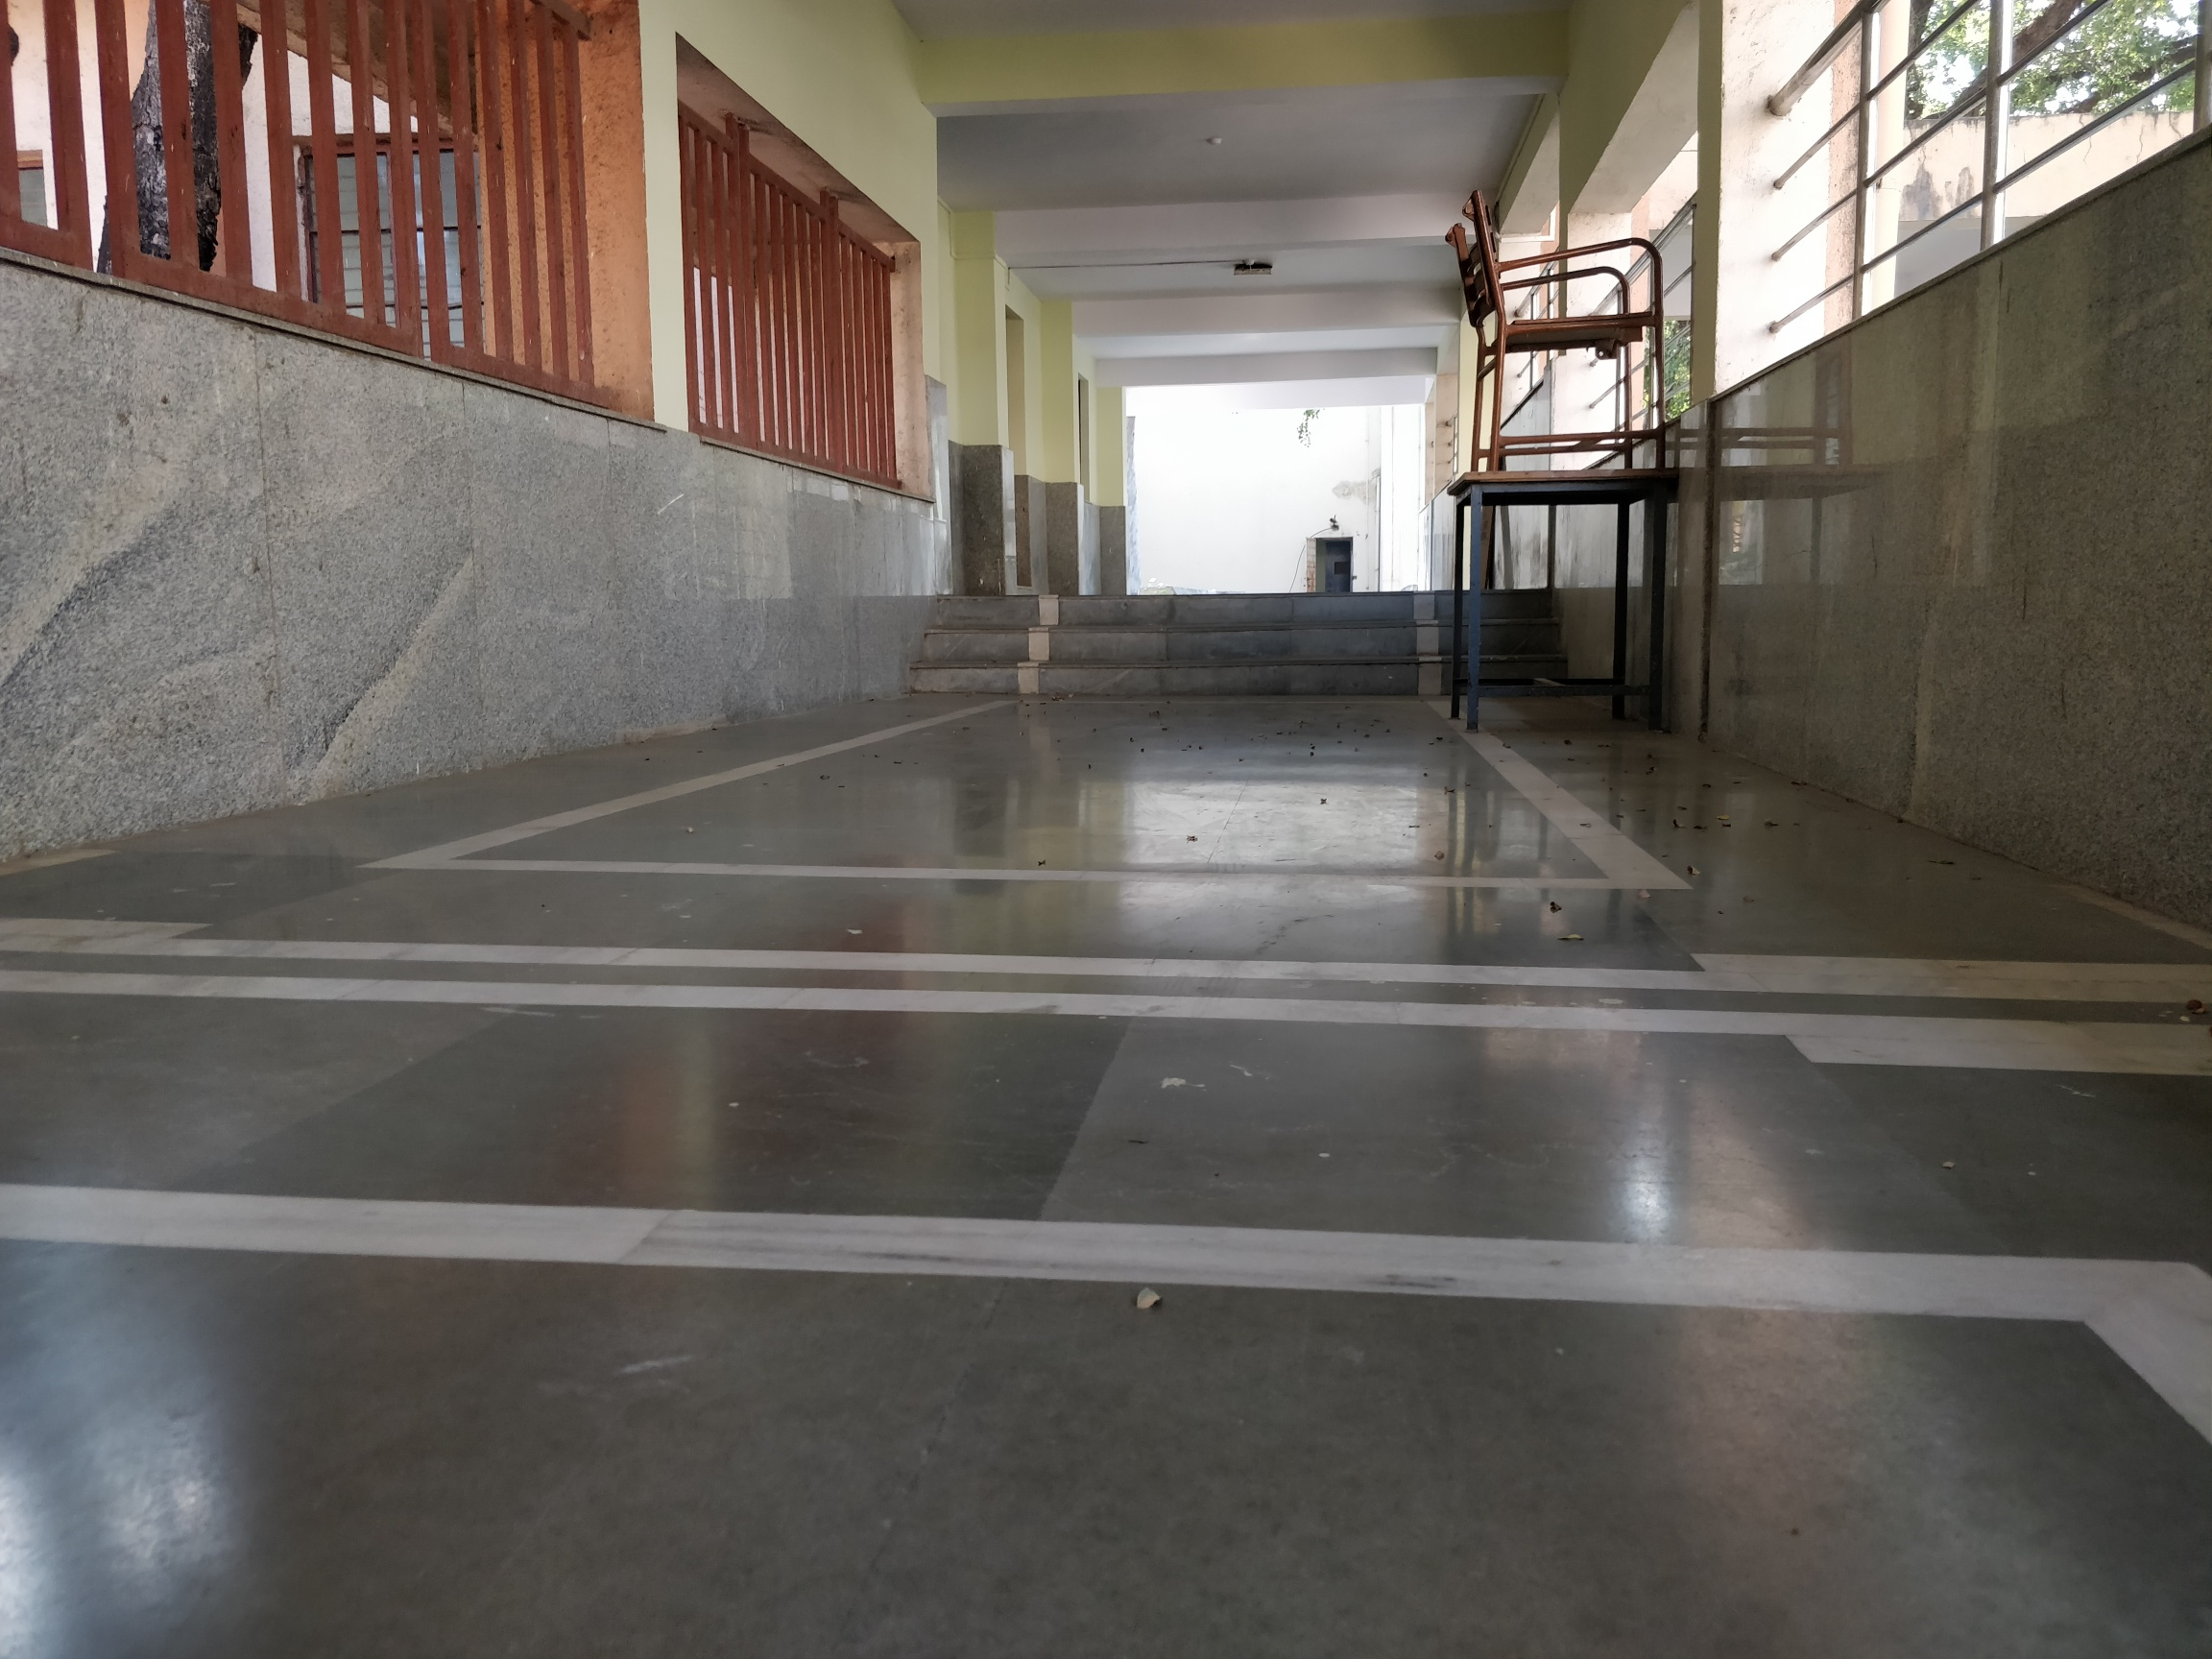stairs_up: (914, 592, 1559, 695)
